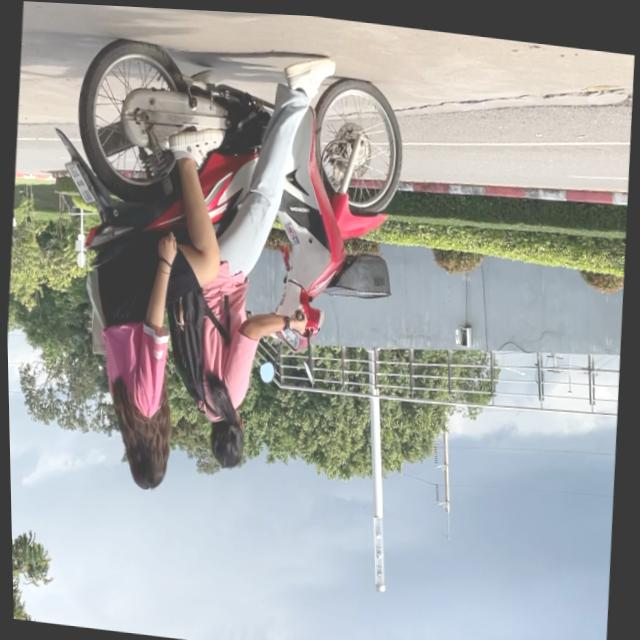seatbelt: (118, 410, 171, 491), (203, 401, 245, 469)
